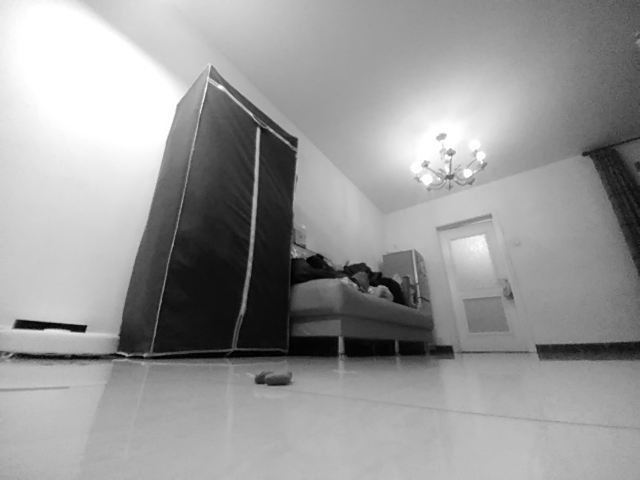pet feces: (253, 368, 295, 387)
